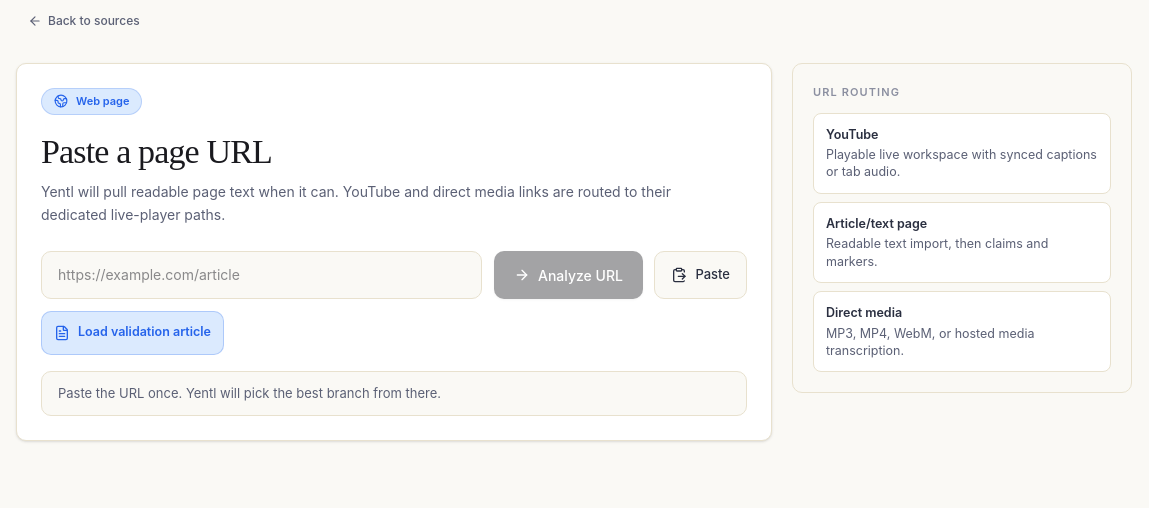
Test: WebUrlIngestPane › shows a clipboard error when copied text has no URL
Click the button with aria-label "Paste URL from clipboard" at x=701, y=274, box x1=654 y1=250 x2=747 y2=298
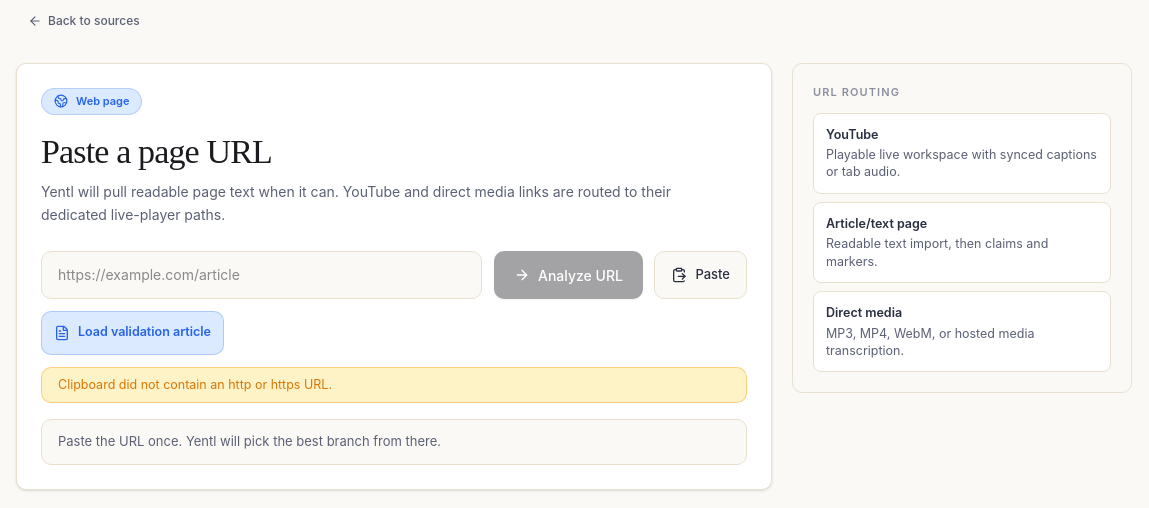
Result: the text "Clipboard did not contain an http or https URL." is shown at x1=41 y1=366 x2=747 y2=403
